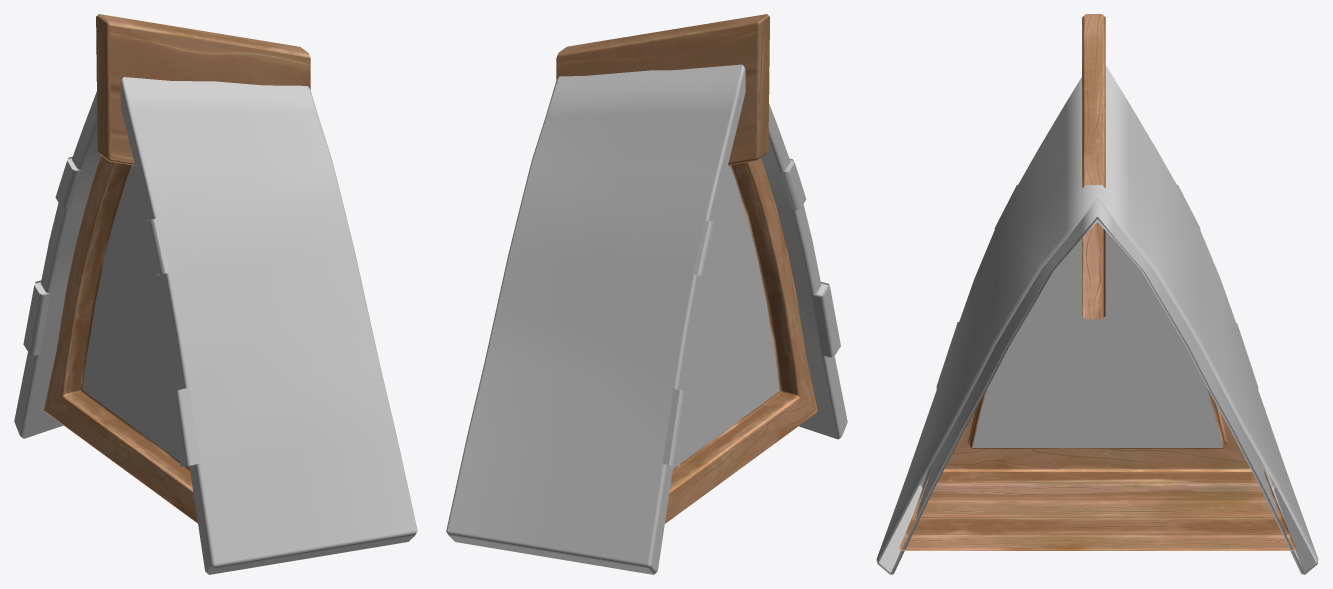
The model's file is SM_FacadePart_03.fbx.
The picture shows the model from 3 angles, left to right: view 1: azimuth 30°, elevation 25°; view 2: azimuth 150°, elevation 25°; view 3: azimuth 270°, elevation 25°; orthographic projection. The views are drawn at different scales.
Visible parts, largest first — view 1: SM_FacadePart_03_LOD0; view 2: SM_FacadePart_03_LOD0; view 3: SM_FacadePart_03_LOD0.
Boxes of the visible parts, x1,y1,x2,y2 form: SM_FacadePart_03_LOD0: (14,14,417,574); SM_FacadePart_03_LOD0: (446,14,847,574); SM_FacadePart_03_LOD0: (876,14,1318,574).
Bounding box in the file's own units: 189 × 374 × 438.
2 materials, 1 textured.
